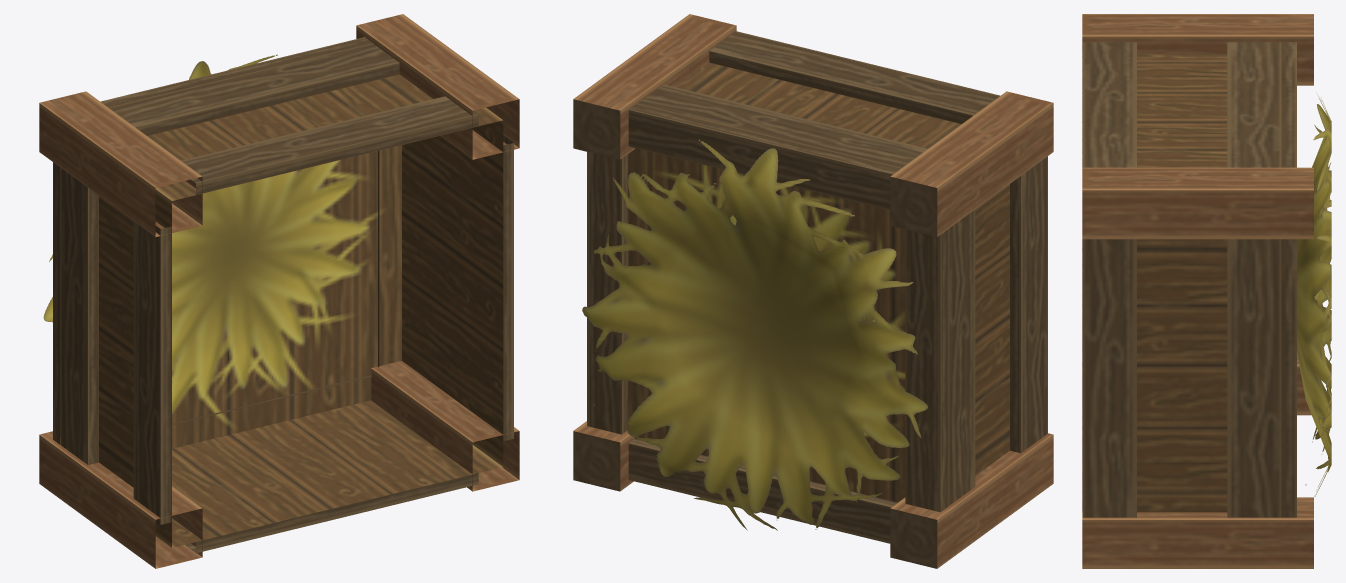
File: Prop_a.fbx
The picture shows the model from 3 angles, left to right: view 1: azimuth 30°, elevation 25°; view 2: azimuth 150°, elevation 25°; view 3: azimuth 270°, elevation 25°; orthographic projection.
Visible parts, largest first — view 1: Prop_a; view 2: Prop_a; view 3: Prop_a.
Part boxes in pixels (bbox=[...]): Prop_a: bbox=[39, 14, 519, 568]; Prop_a: bbox=[573, 14, 1053, 568]; Prop_a: bbox=[1082, 14, 1331, 568].
Size of the model in its own units: 87.89 by 87.89 by 45.21.
